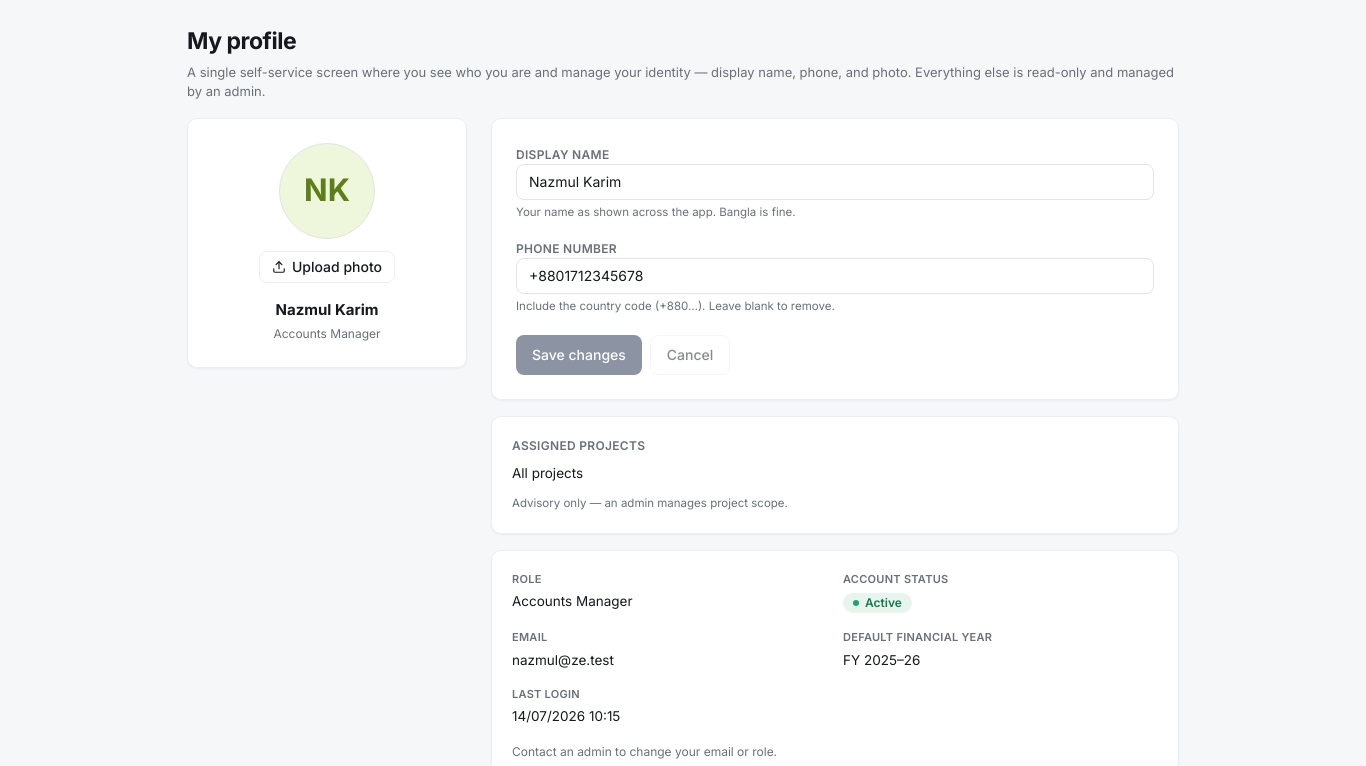
it: AccountProfileScreen — name/phone edit (FR-AUD-032/-034/-037) › empty name shows an inline validation error and does not submit
The width and height of the screenshot is (1366, 766).
Clear the field with test id "profile-name-input" at [835, 182], box [516,164,1154,200]
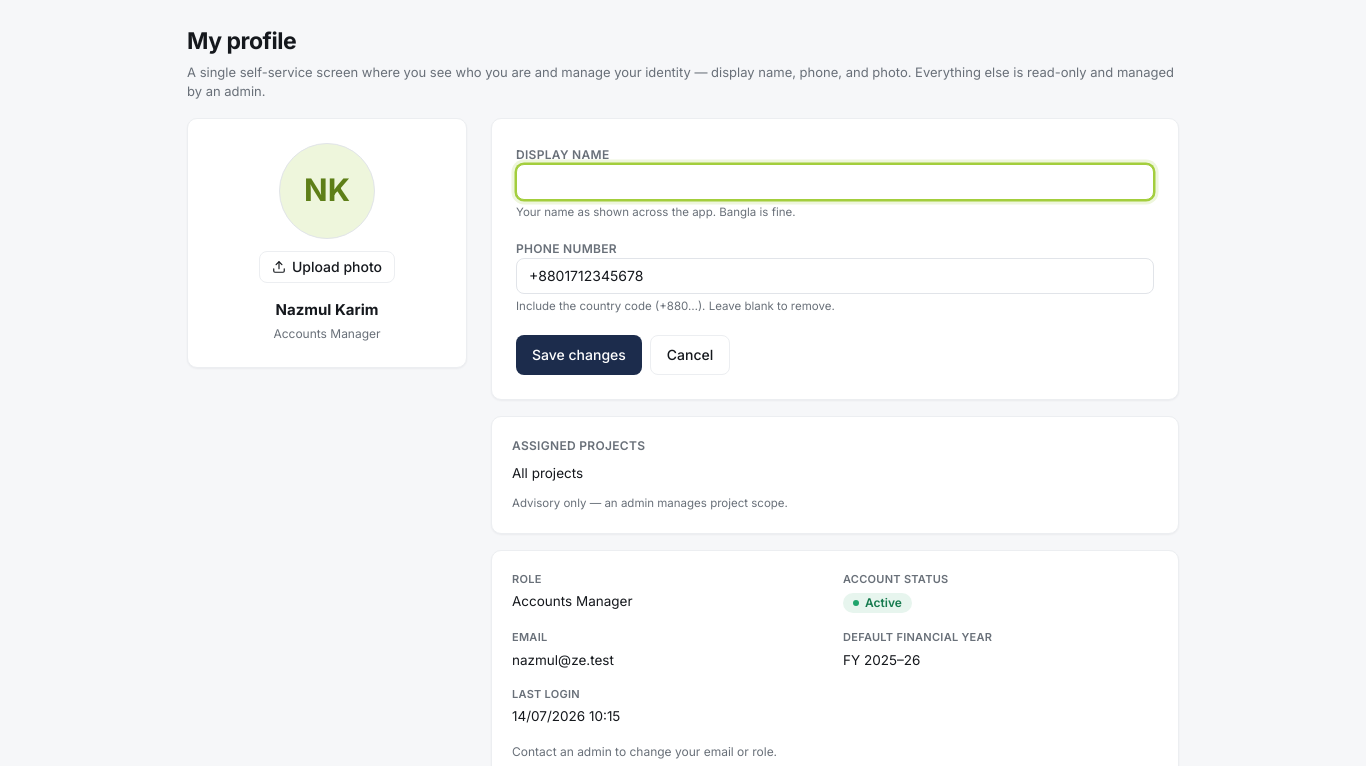
Note: Save is enabled (dirty), but validation blocks submit.
Click the button with test id "profile-save".
click(579, 355)  # box [516,335,642,375]
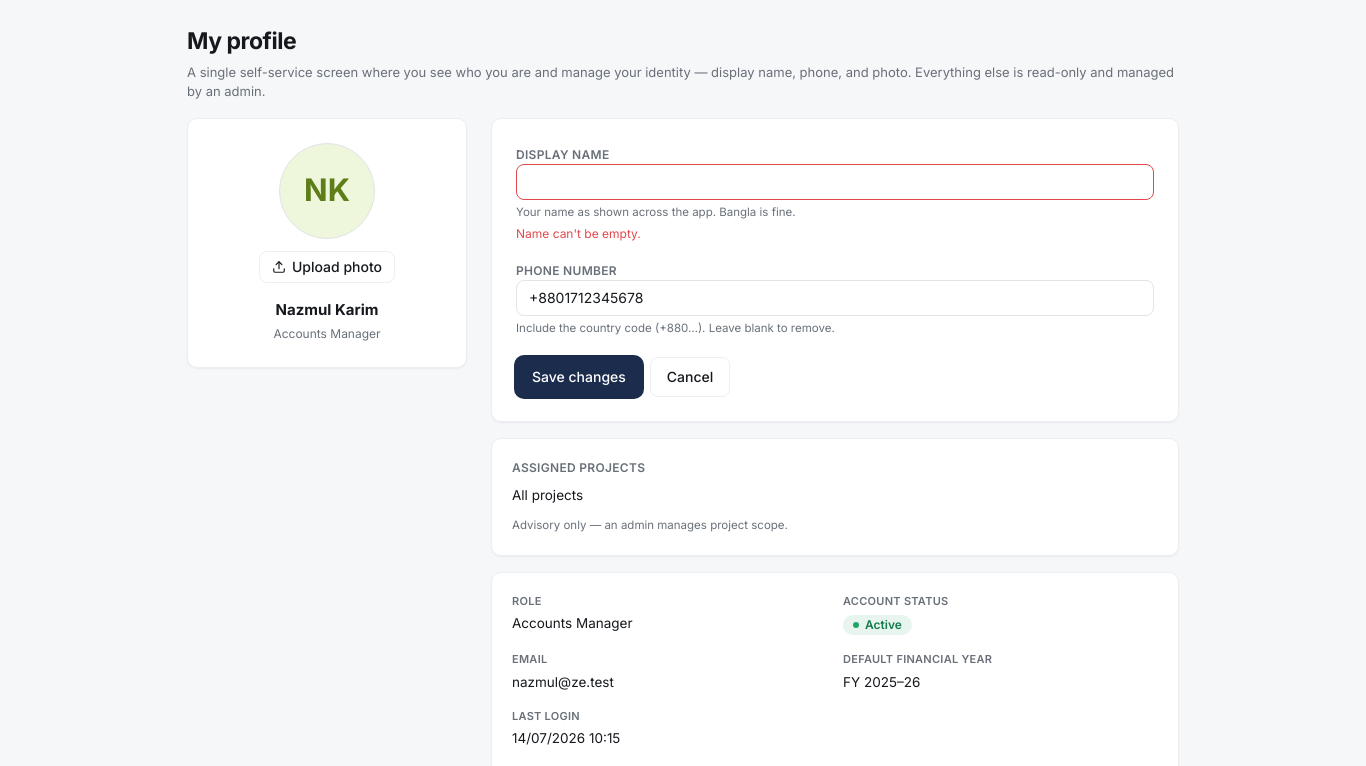
Check: the message with test id "profile-name-error" shows "Name can't be empty", box [516,226,641,241]
